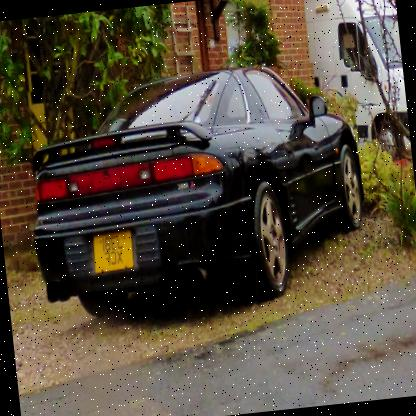Car: (25, 58, 374, 334)
